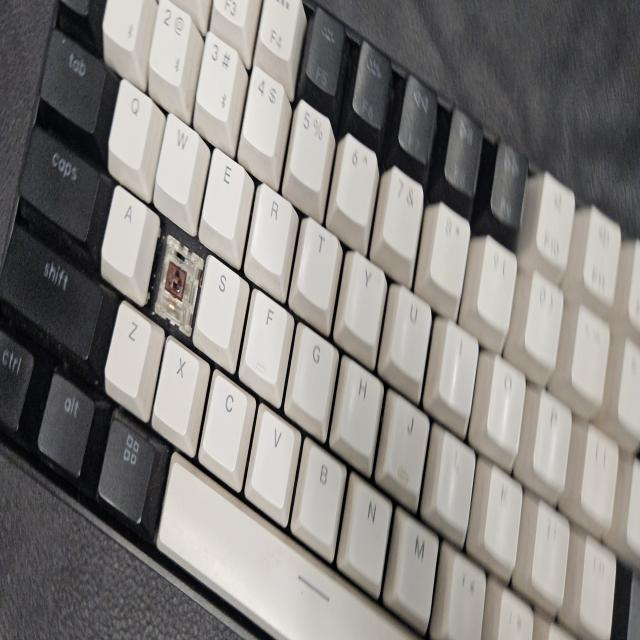C: (159, 244, 197, 332)
